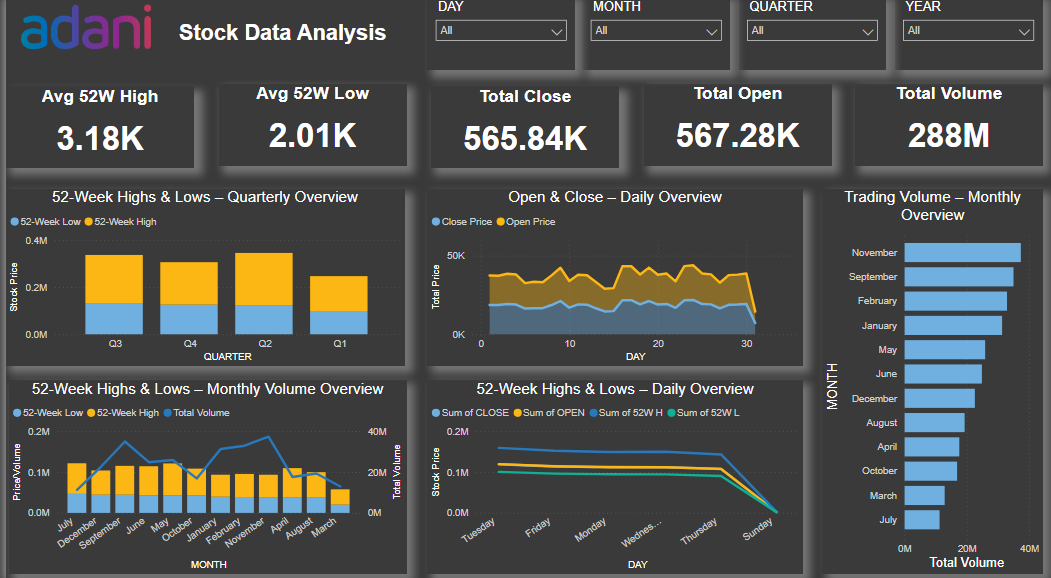

The page's visual inventory and layout, read from the dashboard file:
{"tool":"powerbi","page":{"name":"Page 1","canvas":[1280,720],"ordinal":0},"visuals":[{"type":"slicer","fields":{"Values":["Data set.DAY"]},"box":[514.5,0,180.7,91],"z":0},{"type":"slicer","fields":{"Values":["Data set.MONTH"]},"box":[704.8,0,180.7,91],"z":1000},{"type":"slicer","fields":{"Values":["Data set.Quarter"]},"box":[895.2,0,180.7,91],"z":2000},{"type":"slicer","fields":{"Values":["Data set.YEAR"]},"box":[1086.9,0,180.7,91],"z":3000},{"type":"card","title":"Avg 52W High","fields":{"Values":["Avg(Data set.52W H)"]},"box":[0,111.7,230,100],"z":4000},{"type":"card","title":"Avg 52W Low","fields":{"Values":["Avg(Data set.52W L)"]},"box":[259.5,109,230,100],"z":5000},{"type":"card","title":"Total Close","fields":{"Values":["Sum(Data set.CLOSE)"]},"box":[519.1,111.7,230,100],"z":6000},{"type":"card","title":"Total Open","fields":{"Values":["Sum(Data set.OPEN)"]},"box":[778.6,109,230,100],"z":7000},{"type":"card","title":"Total Volume","fields":{"Values":["Sum(Data set.VOLUME)"]},"box":[1038.2,108.3,230.4,100.1],"z":8000},{"type":"columnChart","title":"52-Week Highs & Lows – Quarterly Overview","fields":{"Y":["Sum(Data set.52W L)","Sum(Data set.52W H)"],"Category":["Data set.Quarter"]},"box":[0,237.3,486.9,216.7],"z":9000},{"type":"lineStackedColumnComboChart","title":"52-Week Highs & Lows – Monthly Volume Overview","fields":{"Y":["Sum(Data set.52W L)","Sum(Data set.52W H)"],"Category":["Data set.MONTH"],"Y2":["Sum(Data set.VOLUME)"]},"box":[2.7,470.4,486.9,237.3],"z":10000},{"type":"stackedAreaChart","title":"Open & Close – Daily Overview","fields":{"Category":["Data set.DATE.Variation.Date Hierarchy.Day"],"Y":["Sum(Data set.CLOSE)","Sum(Data set.OPEN)"]},"box":[514.3,237.3,459.4,216.7],"z":11000},{"type":"lineChart","title":"52-Week Highs & Lows – Daily Overview","fields":{"Y":["Sum(Data set.CLOSE)","Sum(Data set.OPEN)","Sum(Data set.52W H)","Sum(Data set.52W L)"],"Category":["Data set.DAY"]},"box":[514.3,470.4,459.4,237.3],"z":12000},{"type":"clusteredBarChart","title":"Trading Volume – Monthly Overview","fields":{"Category":["Data set.MONTH"],"Y":["Sum(Data set.VOLUME)"]},"box":[998.4,237.3,270.2,470.4],"z":13000},{"type":"textbox","box":[200,26.2,275.9,64.8],"z":14000},{"type":"image","box":[18.9,6.8,159.4,64.8],"z":15000}]}

Visuals, with their boxes in screenshot pixels (x1, y1, x2, y2), scaled from the page's 1280x720 canvas onto the 1051x578 screenshot:
slicer - Data set.DAY: locate(422, 0, 571, 73)
slicer - Data set.MONTH: locate(579, 0, 727, 73)
slicer - Data set.Quarter: locate(735, 0, 883, 73)
slicer - Data set.YEAR: locate(892, 0, 1041, 73)
"Avg 52W High" card: locate(0, 90, 189, 170)
"Avg 52W Low" card: locate(213, 88, 402, 168)
"Total Close" card: locate(426, 90, 615, 170)
"Total Open" card: locate(639, 88, 828, 168)
"Total Volume" card: locate(852, 87, 1042, 167)
"52-Week Highs & Lows – Quarterly Overview" columnChart: locate(0, 190, 400, 364)
"52-Week Highs & Lows – Monthly Volume Overview" lineStackedColumnComboChart: locate(2, 378, 402, 568)
"Open & Close – Daily Overview" stackedAreaChart: locate(422, 190, 799, 364)
"52-Week Highs & Lows – Daily Overview" lineChart: locate(422, 378, 799, 568)
"Trading Volume – Monthly Overview" clusteredBarChart: locate(820, 190, 1042, 568)
textbox: locate(164, 21, 391, 73)
image: locate(16, 5, 146, 57)
